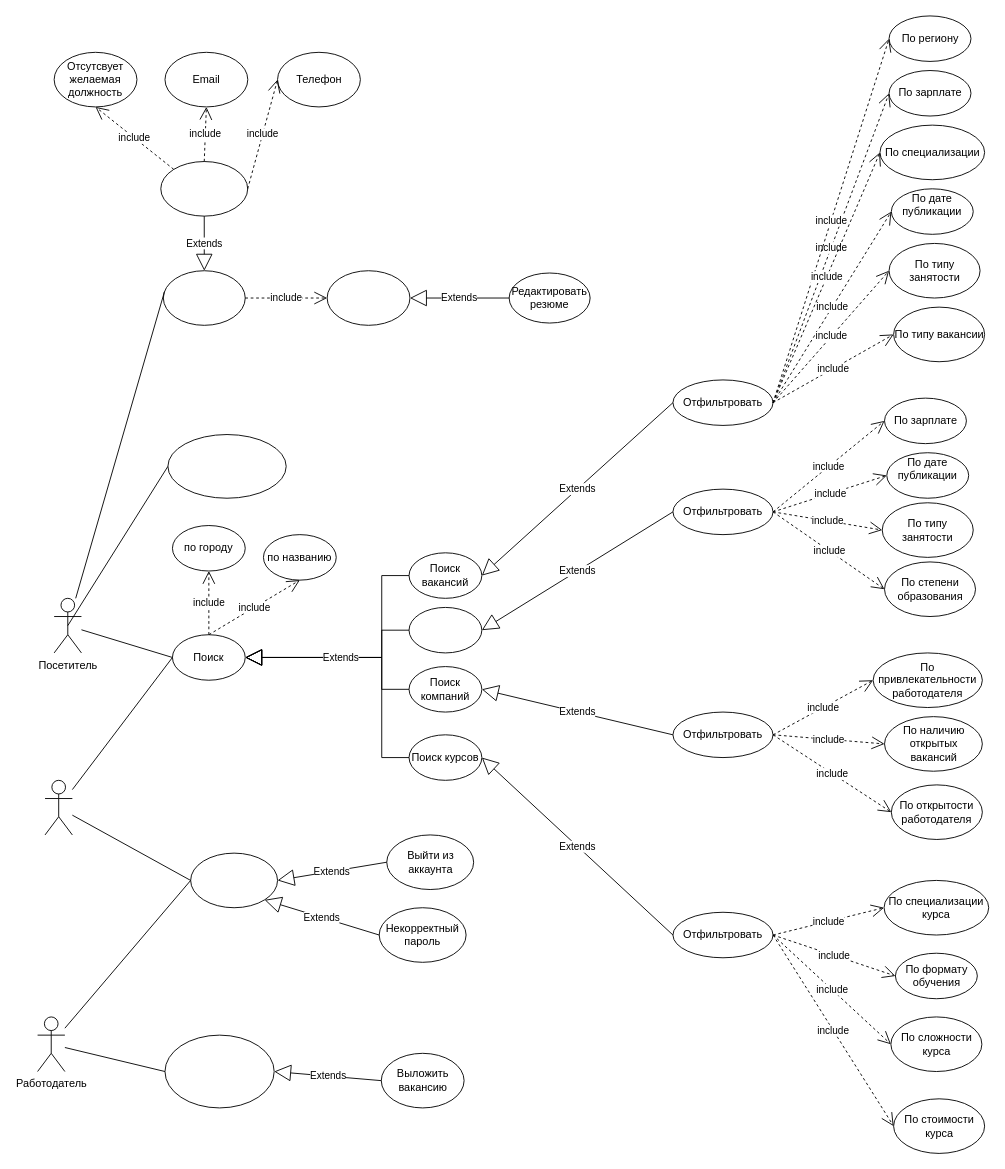
This 1005x1169 diagram has some shape labels left out. Here are the shapes that lost their labels. From the top down, the centre of each, then its label:
the point at 204,188: Некорректный формат
the point at 203,297: Пройти регистрацию на поиск работы
the point at 368,297: Составить резюме
the point at 226,466: Пройти регистрацию на поиск сотрудников
the point at 445,630: Поиск резюме
the point at 58,807: Работник
the point at 234,880: Войти в аккаунт
the point at 219,1071: Зарегестрирвать компанию/частное лицо
